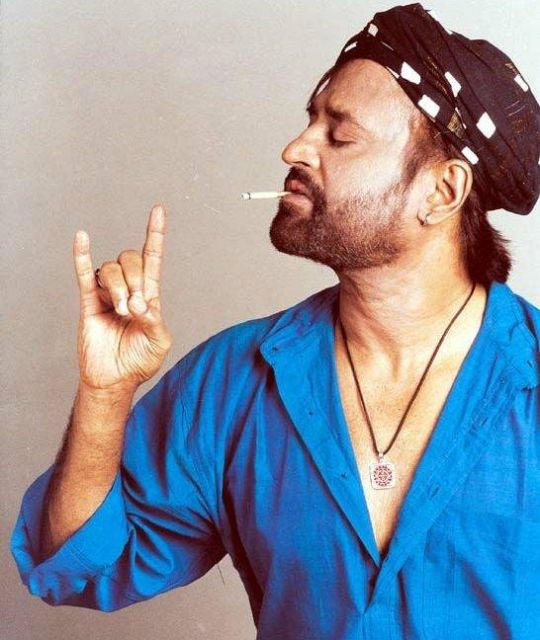cigarette: (240, 184, 302, 202)
